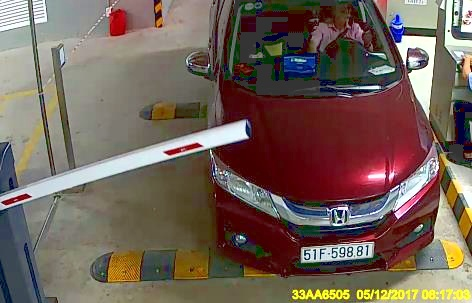plate: (295, 235, 375, 266)
